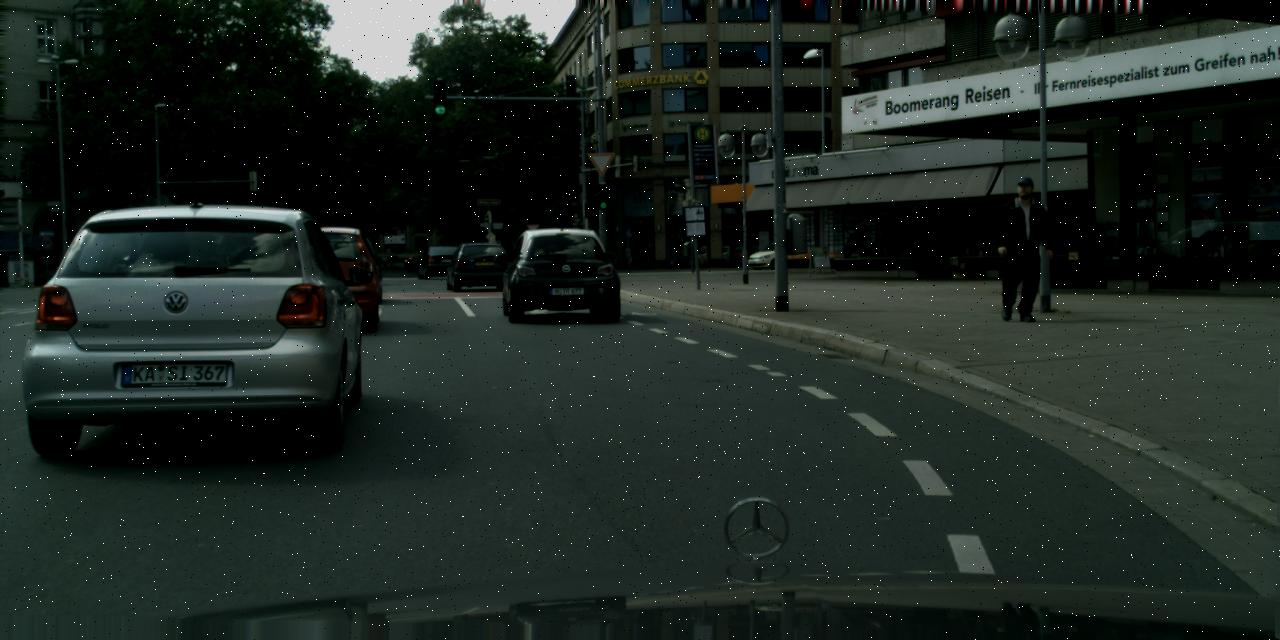ped: (991, 178, 1049, 318)
